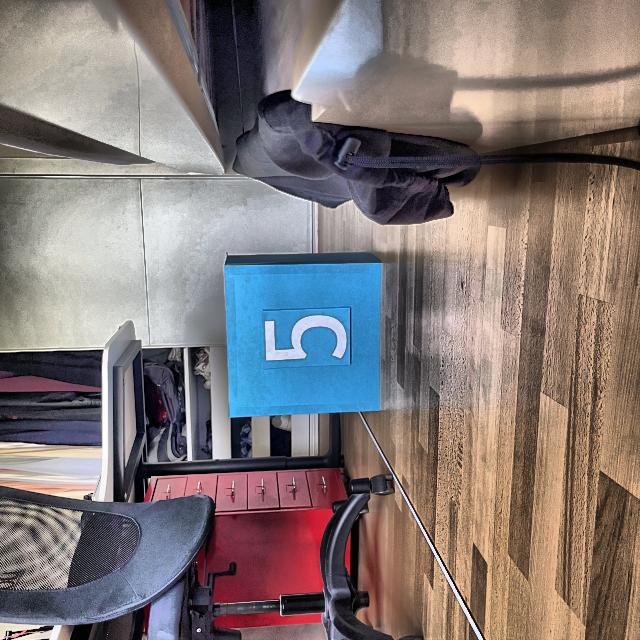blue box: (223, 251, 382, 420)
five: (260, 312, 351, 364)
